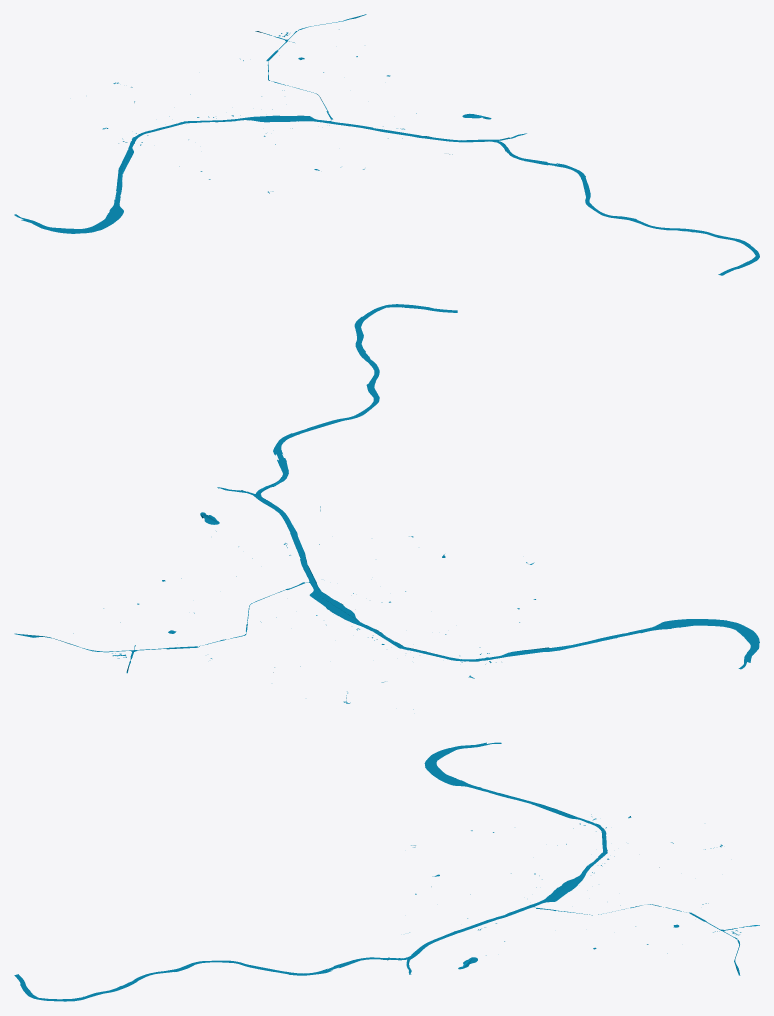
The model's file is water.glb.
The picture shows the model from 3 angles, top to bottom: view 1: azimuth 30°, elevation 25°; view 2: azimuth 150°, elevation 25°; view 3: azimuth 270°, elevation 25°; orthographic projection. The views are drawn at different scales.
Parts seen in each view (by area): view 1: water; view 2: water; view 3: water.
Part boxes in pixels (x1,y1,x2,y2): water: [14, 14, 759, 275]; water: [14, 304, 759, 709]; water: [14, 742, 759, 1001].
Size of the model in its own units: 16403 by 127 by 19967.
